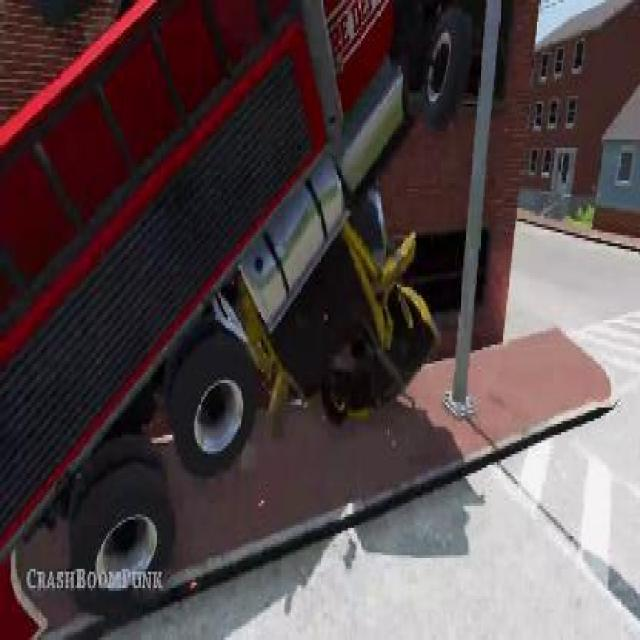accident: (0, 0, 475, 637)
